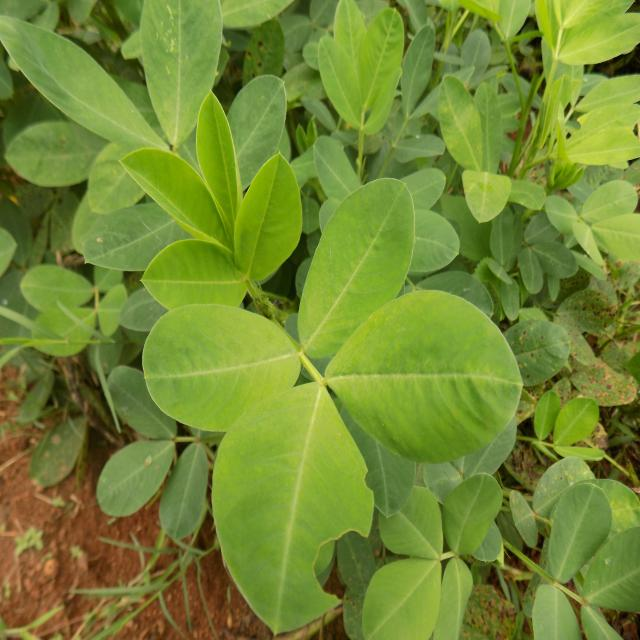Ground nut_healthy: (302, 174, 418, 368), (141, 300, 300, 422), (118, 141, 236, 262), (547, 472, 609, 590), (2, 120, 98, 194), (442, 471, 503, 556), (20, 260, 102, 314)
